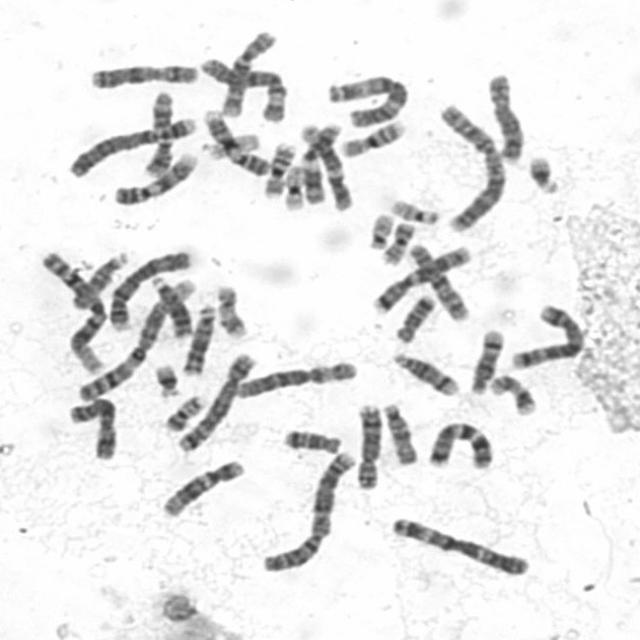A1: (73, 270, 196, 404), (36, 245, 108, 376)
A2: (257, 446, 361, 575), (432, 97, 509, 234)
A3: (386, 512, 534, 578), (322, 69, 412, 130)
B4: (63, 110, 200, 178), (101, 243, 195, 332)
B5: (174, 347, 258, 454), (507, 299, 588, 370)
C10: (217, 24, 280, 119), (406, 239, 474, 324)
C11: (295, 119, 347, 209), (141, 86, 176, 179)
C12: (157, 454, 248, 519), (296, 119, 354, 212)
C6: (197, 52, 292, 124), (230, 354, 361, 400)
C7: (365, 238, 474, 316), (424, 416, 497, 471)
C8: (482, 67, 526, 165), (352, 399, 384, 490)
C9: (109, 146, 201, 208), (199, 104, 275, 178)
D13: (145, 272, 196, 341), (178, 299, 218, 377)
D14: (388, 346, 462, 397), (466, 324, 508, 395)
D15: (66, 246, 132, 312), (378, 398, 421, 467)
E16: (336, 114, 410, 159), (259, 137, 298, 198)
E17: (484, 370, 540, 417), (212, 280, 251, 340)
E18: (391, 289, 438, 344), (279, 424, 345, 455)
F19: (203, 128, 262, 160), (279, 161, 307, 212)
F20: (160, 390, 208, 433), (376, 218, 417, 266)
G21: (523, 150, 564, 196), (149, 358, 183, 399)
G22: (386, 193, 444, 226), (363, 207, 397, 251)
X: (64, 392, 122, 462), (84, 57, 202, 91)
